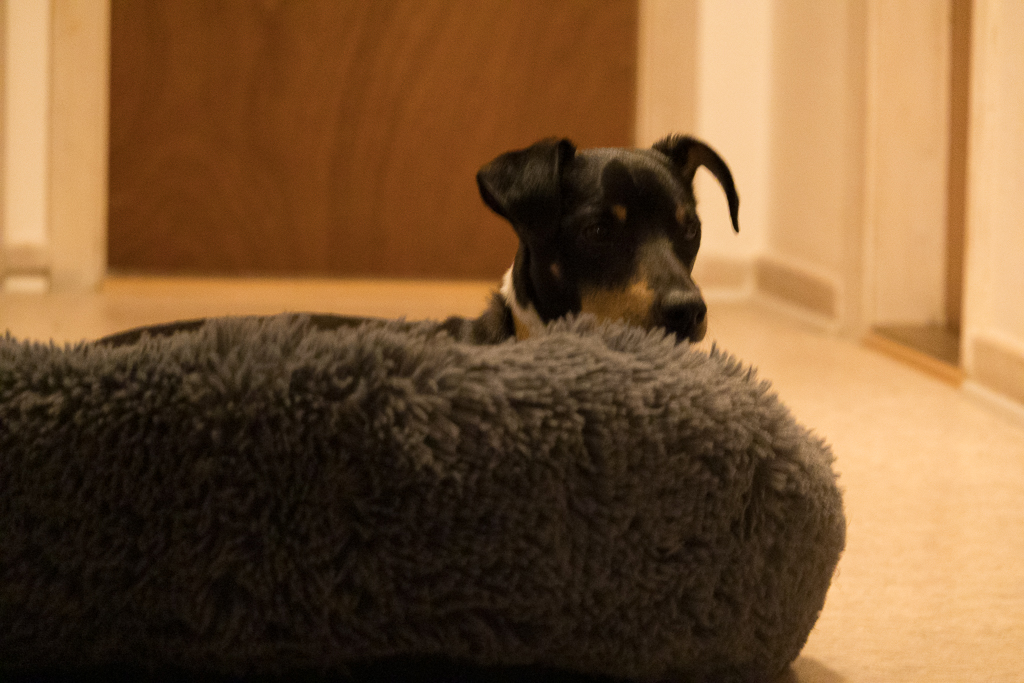Dog: (69, 120, 751, 377)
